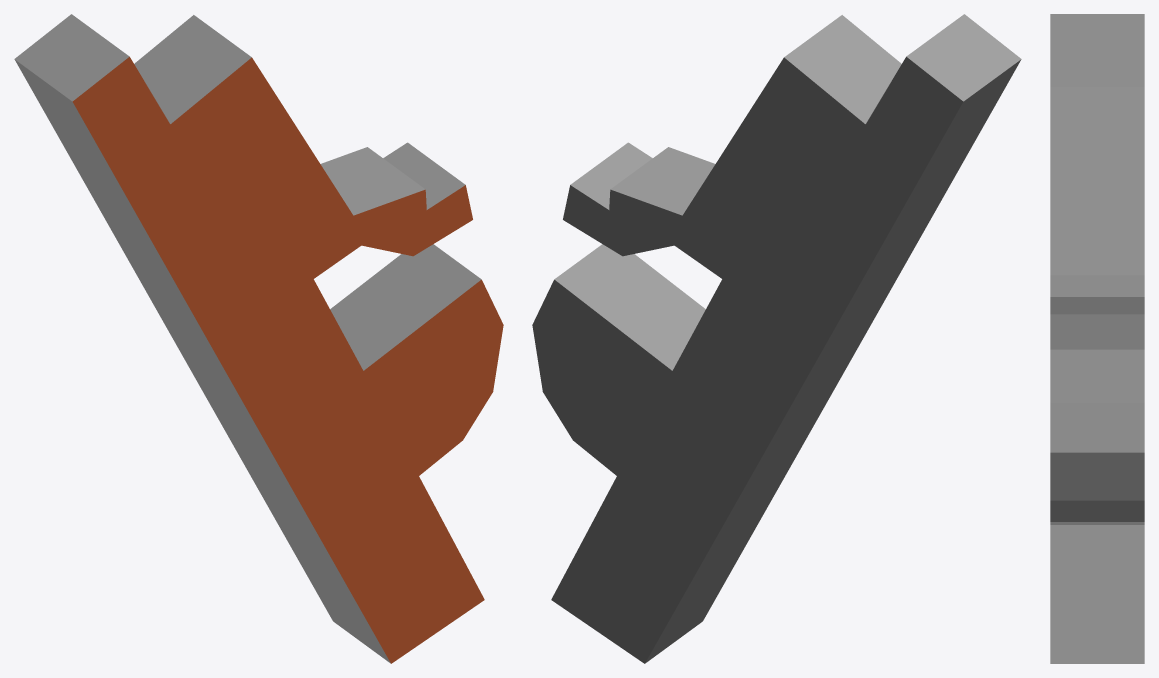
Rendered from construction_6821_assumed_A_Casa_h6m.obj.
3 views of the same model, side by side, from view 1: azimuth 30°, elevation 25°; view 2: azimuth 150°, elevation 25°; view 3: azimuth 270°, elevation 25° (orthographic). The views are drawn at different scales.
Visible parts, largest first — view 1: construction_6821_assumed_A_Casa; view 2: construction_6821_assumed_A_Casa; view 3: construction_6821_assumed_A_Casa.
Boxes of the visible parts, x1,y1,x2,y2 form: construction_6821_assumed_A_Casa: (14,14,503,663); construction_6821_assumed_A_Casa: (532,14,1021,663); construction_6821_assumed_A_Casa: (1050,14,1144,663).
Bounding box in the file's own units: 25.68 × 38.21 × 6.
